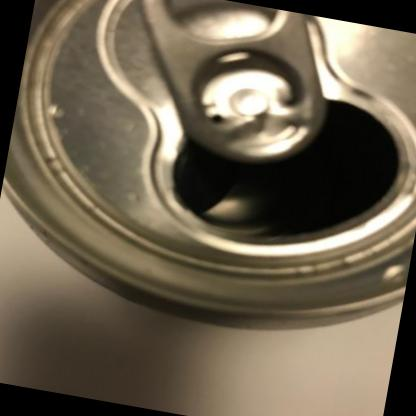Metal: (3, 0, 416, 330)
